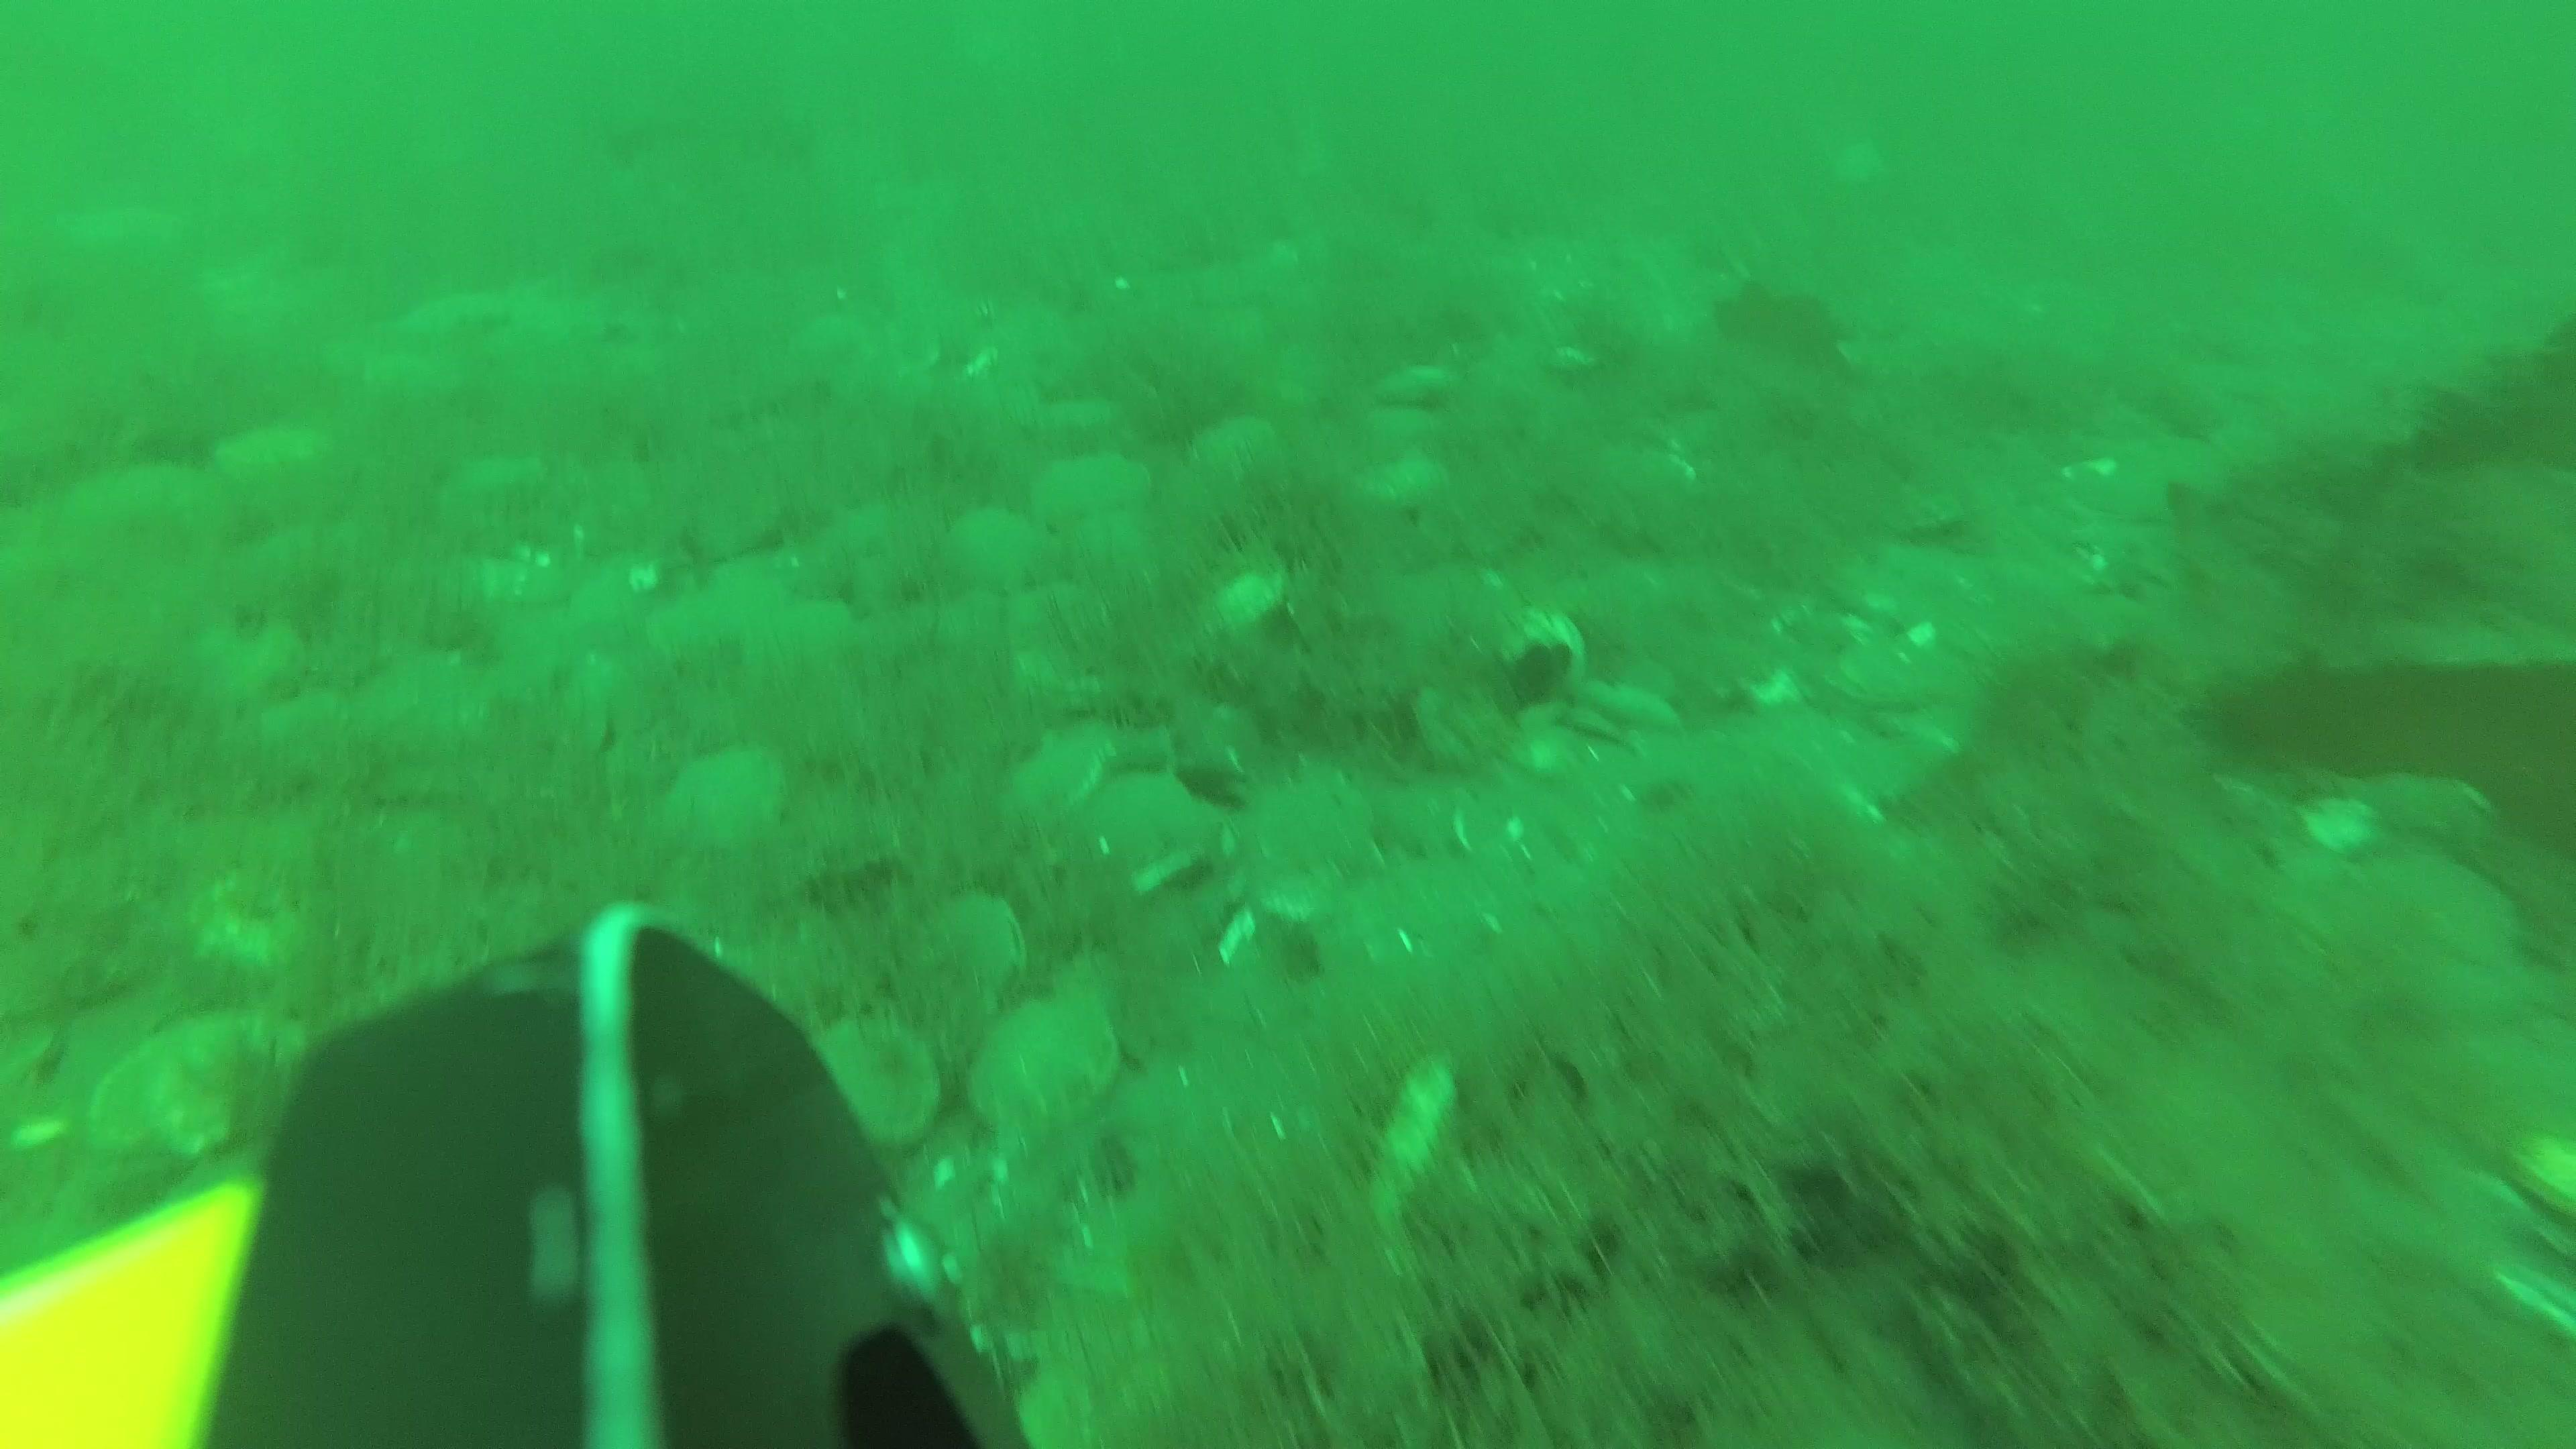scallop: (94, 1017, 283, 1171), (1240, 764, 1380, 897), (991, 1001, 1120, 1141), (816, 1016, 950, 1146), (909, 902, 1028, 1023), (1083, 777, 1203, 890), (672, 741, 780, 849), (1001, 729, 1108, 837), (1838, 637, 1937, 722), (1031, 464, 1132, 538), (950, 513, 1042, 594), (1194, 414, 1288, 487), (214, 426, 331, 483), (1362, 456, 1453, 525), (1373, 357, 1454, 416)
